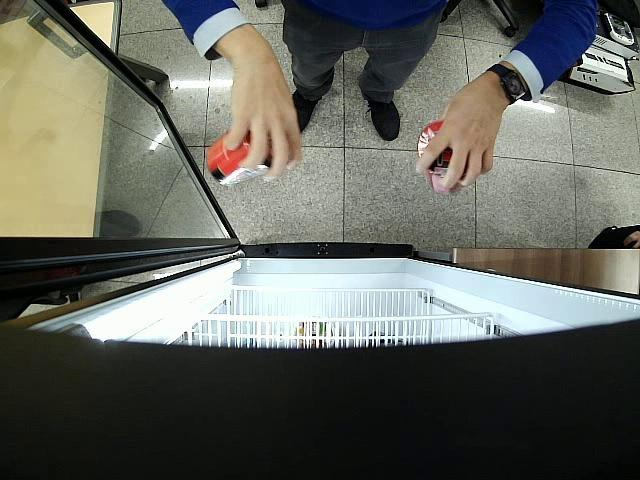02_shinRamen_S: (418, 120, 482, 180), (205, 130, 272, 186)
